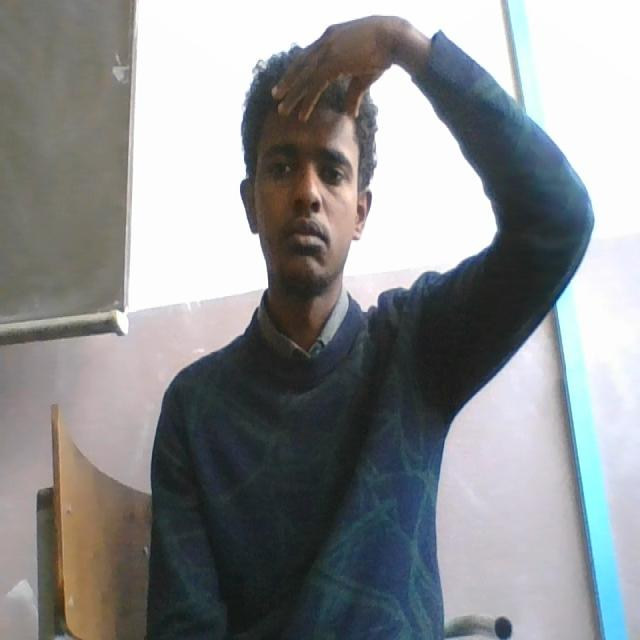mengist: (228, 11, 392, 162)
